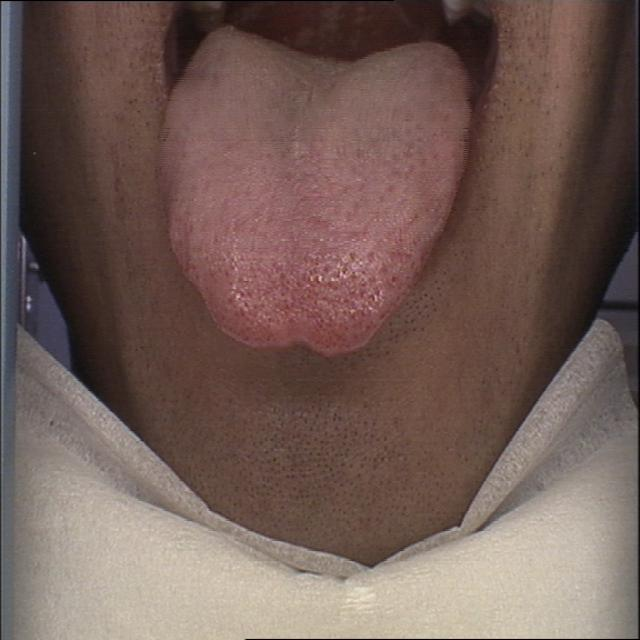tongue: (148, 28, 481, 360)
